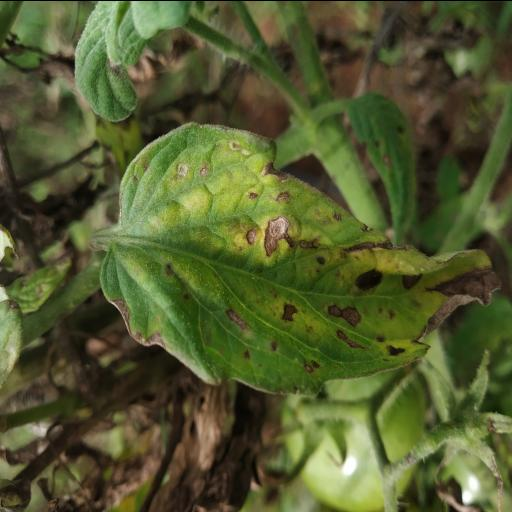Early Blight: (98, 122, 504, 398)
